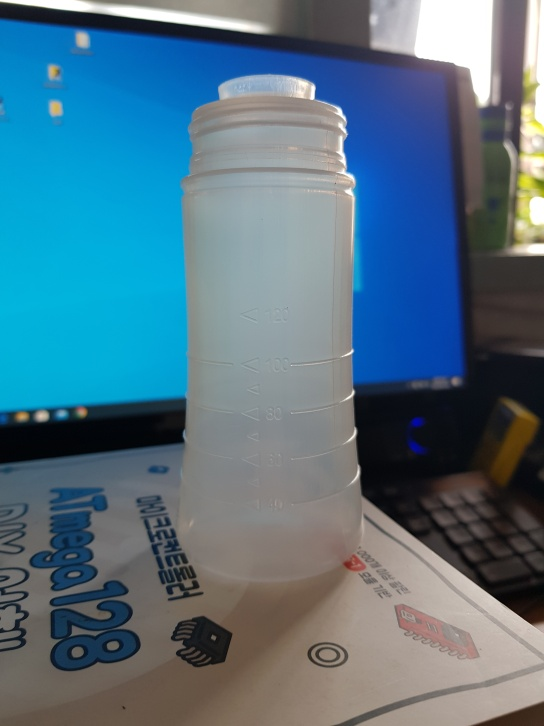Plastic: (173, 72, 367, 588)
